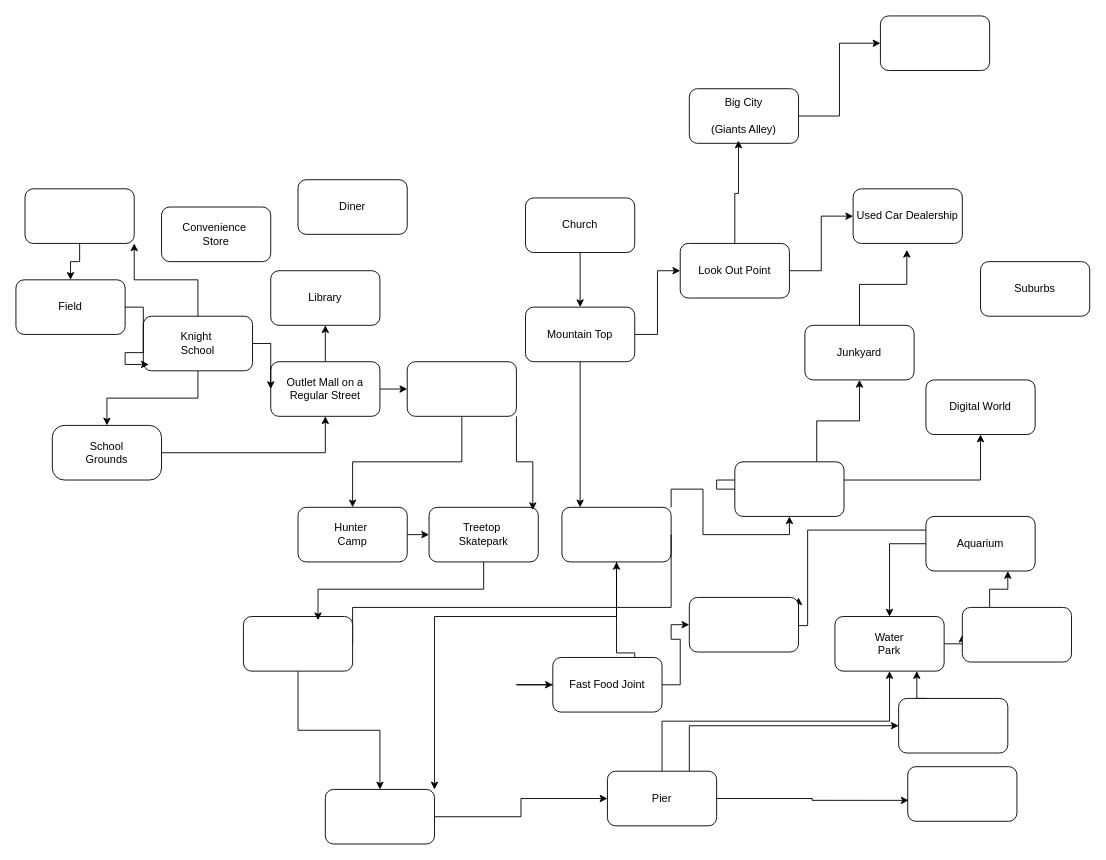
Some shapes in this 1106 by 860 pixel diagram are drawn without their labels. Here are the shapes that lost their labels. From the top down, the box of each, then its label:
(880, 15, 990, 71): Bouncy Castle In The Sky
(24, 188, 134, 243): School Dance
(406, 361, 516, 416): Lost Park (With Lots of Construction)
(734, 461, 844, 516): Arcade
(561, 506, 671, 562): Mallcano
(243, 616, 353, 671): Grind Mines
(688, 597, 799, 652): Restaurants
(961, 607, 1072, 662): Waterfall
(898, 698, 1008, 753): Amusement Park
(907, 766, 1017, 821): Nipponland
(324, 789, 435, 844): Sewers
